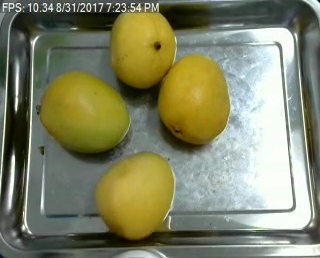Mango: (37, 69, 131, 154), (95, 150, 175, 239), (158, 53, 230, 146), (109, 7, 176, 88)
